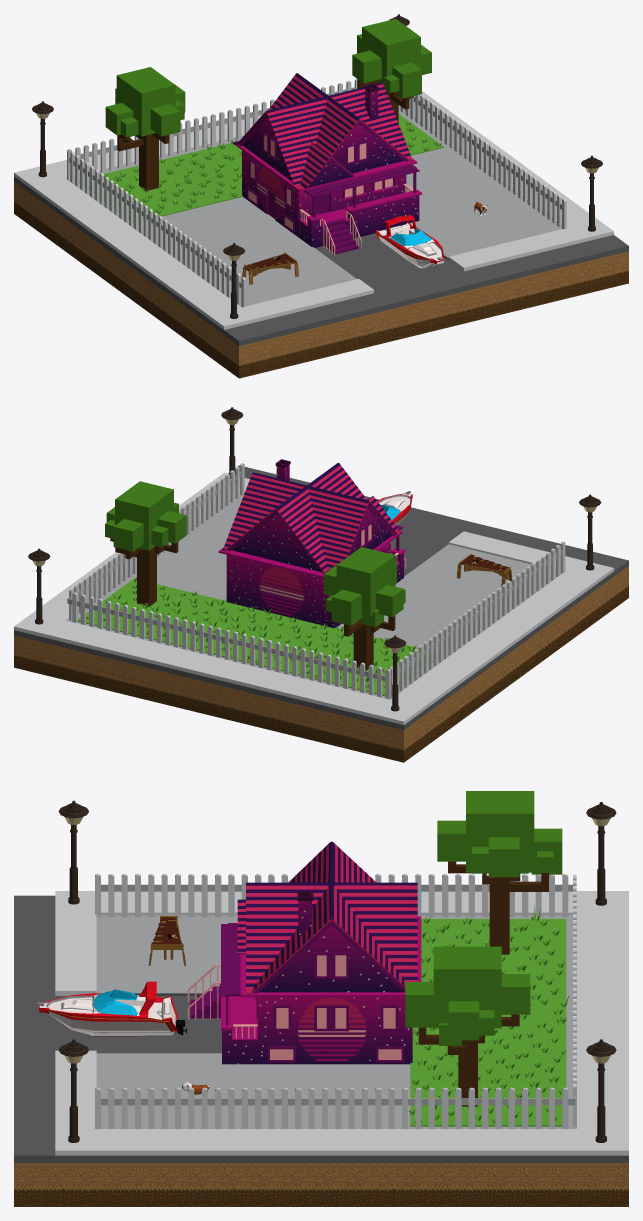
The picture shows the model from 3 angles, top to bottom: view 1: azimuth 30°, elevation 25°; view 2: azimuth 150°, elevation 25°; view 3: azimuth 270°, elevation 25°; orthographic projection. The views are drawn at different scales.
Visible parts, largest first — view 1: Cube.004, Cube.156, VEHICLES_BOAT, OBJRANDOM_MARIMBA; view 2: Cube.004, Cube.156, OBJRANDOM_MARIMBA, VEHICLES_BOAT; view 3: Cube.004, Cube.156, VEHICLES_BOAT, OBJRANDOM_MARIMBA.
Boxes of the visible parts, bbox=[...] form: Cube.004: bbox=[14, 14, 628, 378]; Cube.156: bbox=[233, 73, 421, 255]; VEHICLES_BOAT: bbox=[375, 215, 444, 268]; OBJRANDOM_MARIMBA: bbox=[242, 252, 298, 284]; Cube.004: bbox=[14, 407, 628, 762]; Cube.156: bbox=[218, 459, 406, 627]; OBJRANDOM_MARIMBA: bbox=[456, 554, 512, 586]; VEHICLES_BOAT: bbox=[377, 491, 412, 525]; Cube.004: bbox=[14, 791, 628, 1206]; Cube.156: bbox=[187, 841, 421, 1064]; VEHICLES_BOAT: bbox=[37, 981, 186, 1036]; OBJRANDOM_MARIMBA: bbox=[148, 916, 185, 965].
Bounding box in the file's own units: 4000 × 1601 × 4000.
Materials: 39 (5 with a texture image).
